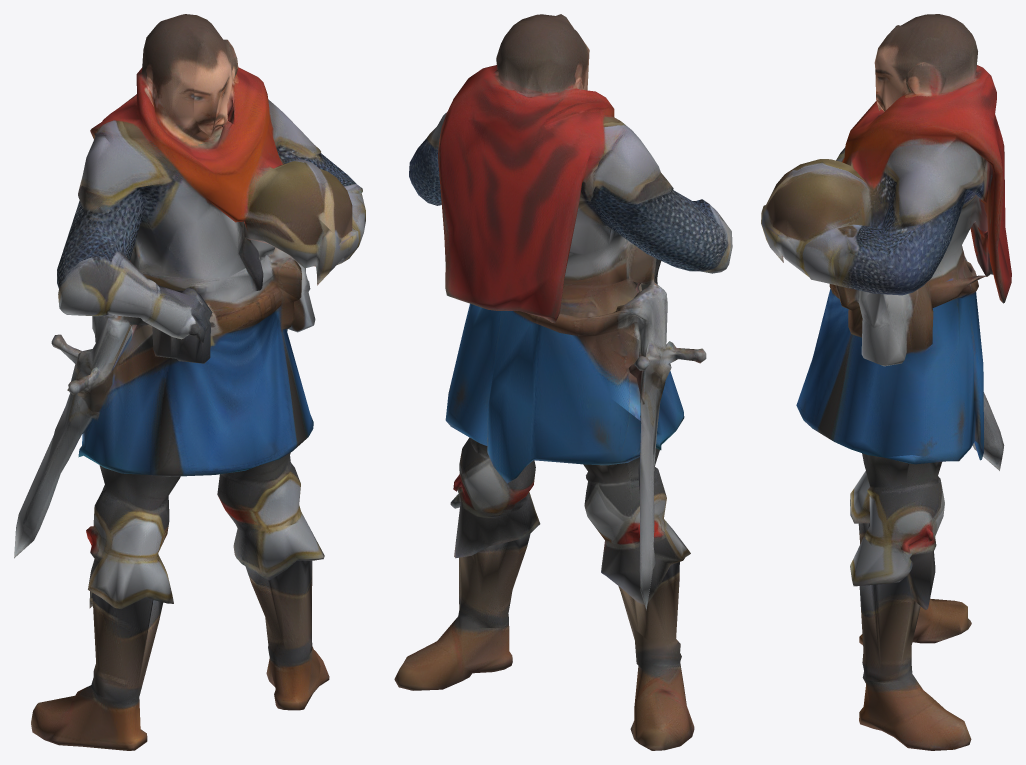
File: npc_captain.glb
3 views of the same model, side by side, from view 1: azimuth 30°, elevation 25°; view 2: azimuth 150°, elevation 25°; view 3: azimuth 270°, elevation 25° (orthographic). The views are drawn at different scales.
Size of the model in its own units: 0.93 by 2 by 0.6796.
1 material, 1 textured.
